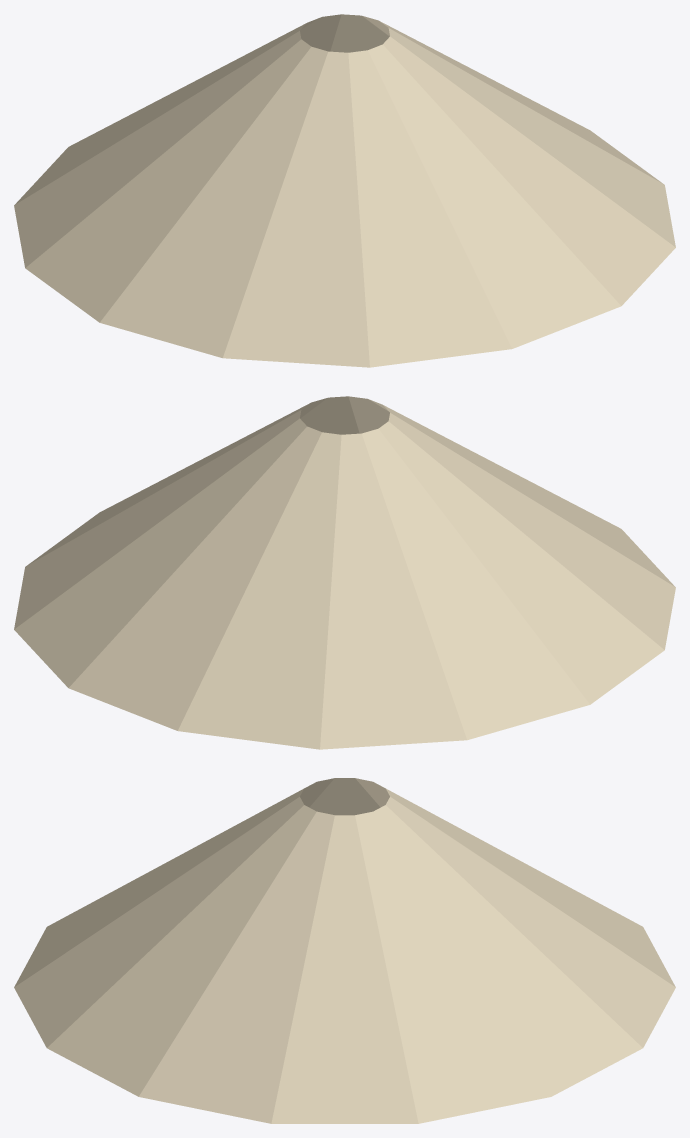
File: sandheap.glb
The picture shows the model from 3 angles, top to bottom: view 1: azimuth 30°, elevation 25°; view 2: azimuth 150°, elevation 25°; view 3: azimuth 270°, elevation 25°; orthographic projection.
Visible parts, largest first — view 1: sandheap; view 2: sandheap; view 3: sandheap.
Boxes of the visible parts, x1,y1,x2,y2 form: sandheap: (14,14,675,367); sandheap: (14,396,675,749); sandheap: (14,778,675,1123).
Bounding box in the file's own units: 4.29 × 1.4 × 4.4.
